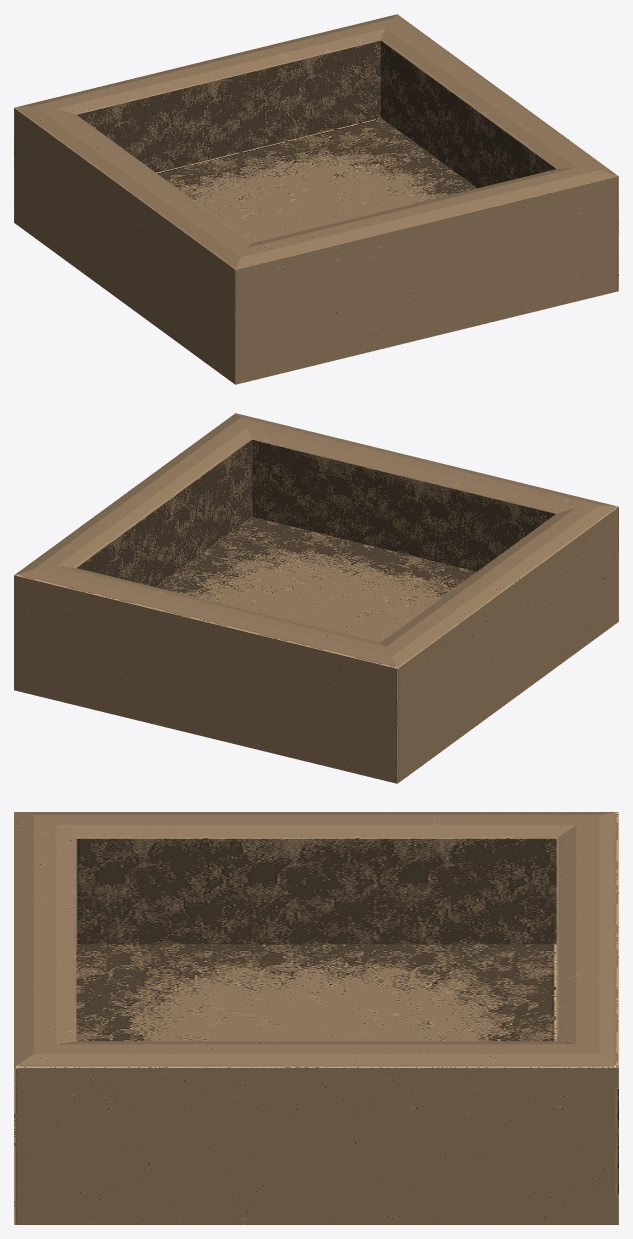
The model's file is shop_ball 1.fbx.
The picture shows the model from 3 angles, top to bottom: view 1: azimuth 30°, elevation 25°; view 2: azimuth 150°, elevation 25°; view 3: azimuth 270°, elevation 25°; orthographic projection. The views are drawn at different scales.
Visible parts, largest first — view 1: shop_ball; view 2: shop_ball; view 3: shop_ball.
Boxes of the visible parts, x1,y1,x2,y2 form: shop_ball: [14, 14, 618, 384]; shop_ball: [14, 413, 618, 783]; shop_ball: [14, 812, 618, 1224].
Bounding box in the file's own units: 34.5 × 10.23 × 34.5.
